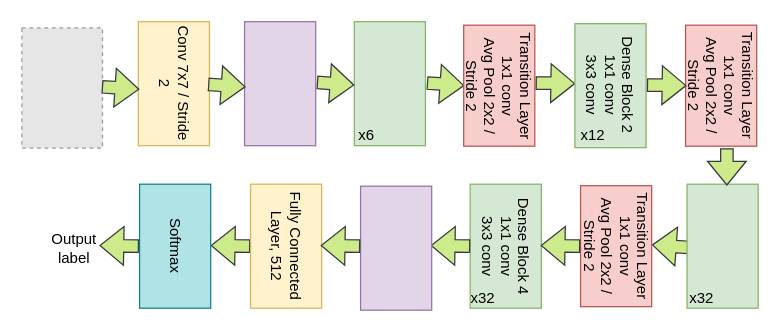
Image size: 781x333. Some labels were removed from this diagram. Grey dashed boxes stand in for pictures. The centre of each missing label's shape, as x and y in pixels:
Dense Block 1 1x1 conv 3x3 conv: [389,83]
Dense Block 3 1x1 conv 3x3 conv: [722,245]
Global avg pooling: [395,247]
Max Pool 3x3 / Stride 2: [279,83]
